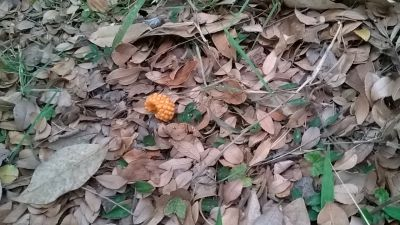eggs: (145, 92, 175, 121)
